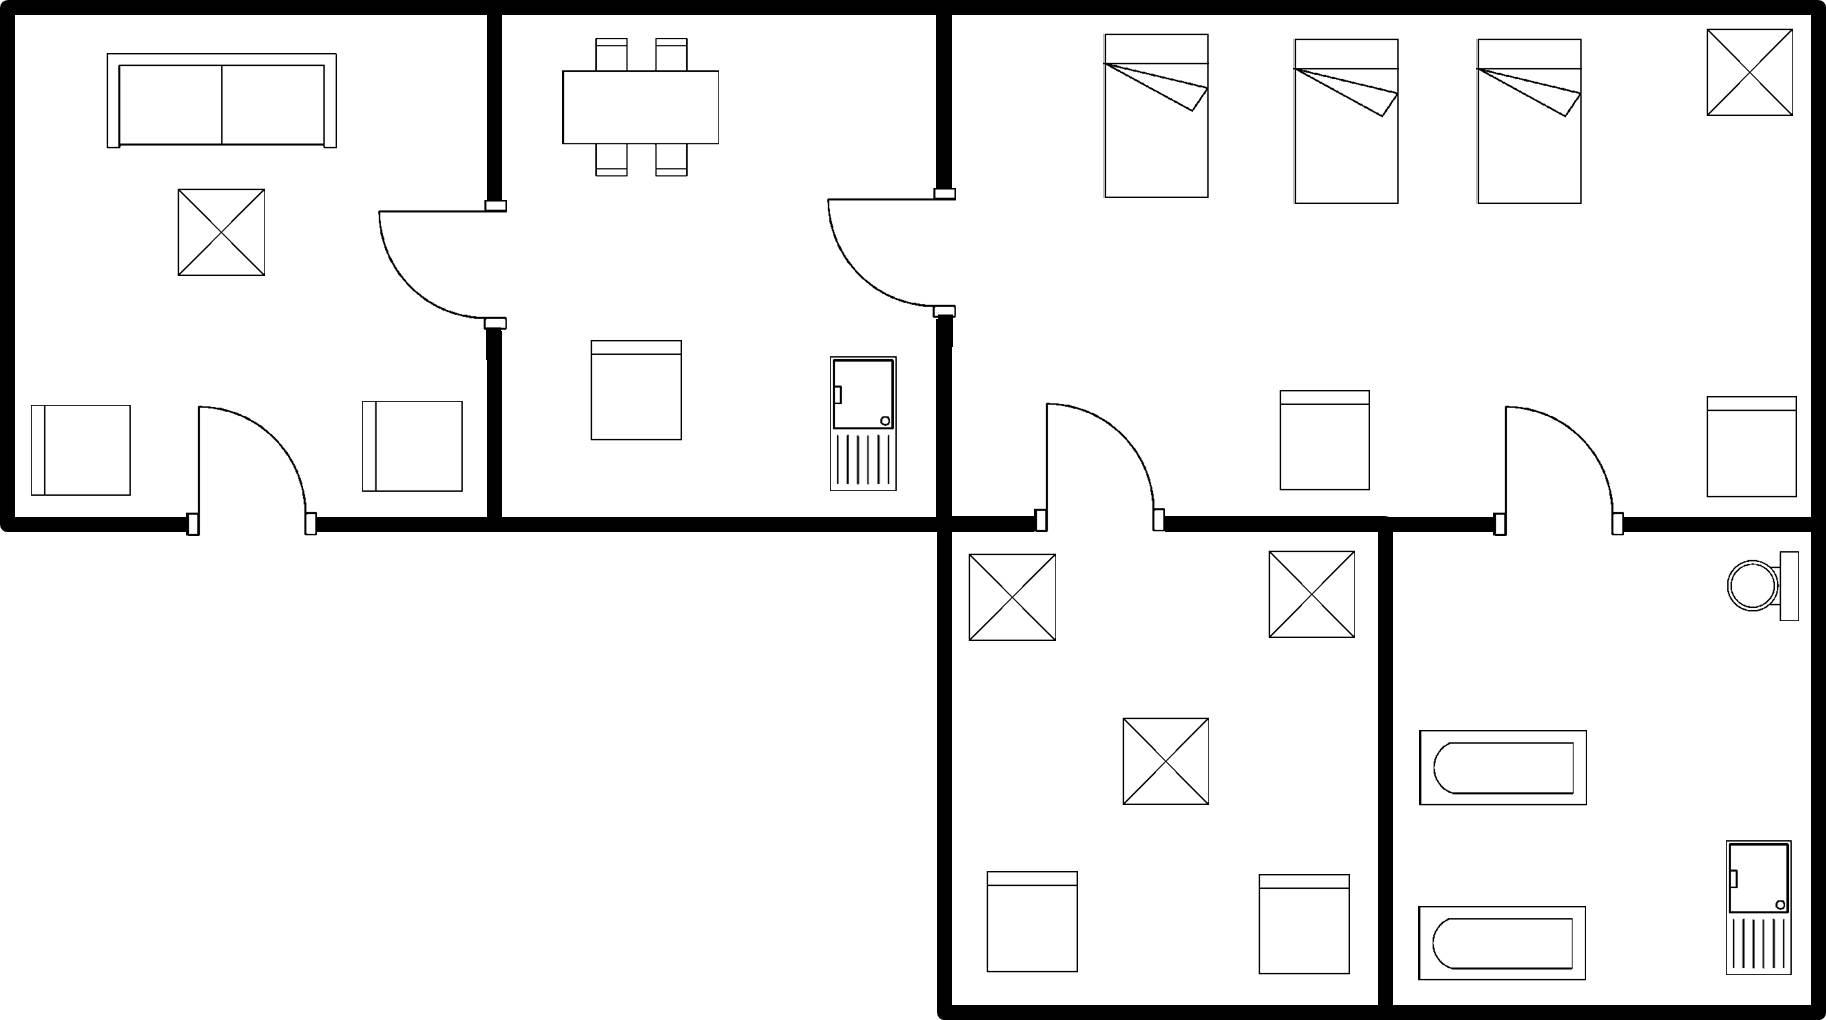bed: (1280, 33, 1411, 215), (1090, 25, 1216, 206), (1469, 29, 1591, 215)
dining_table: (547, 26, 729, 186)
sink: (1716, 829, 1802, 984), (816, 348, 904, 499)
sofa: (97, 43, 351, 161)
toilet: (1711, 543, 1807, 635)
tub: (1407, 895, 1598, 990), (1410, 719, 1598, 815)
